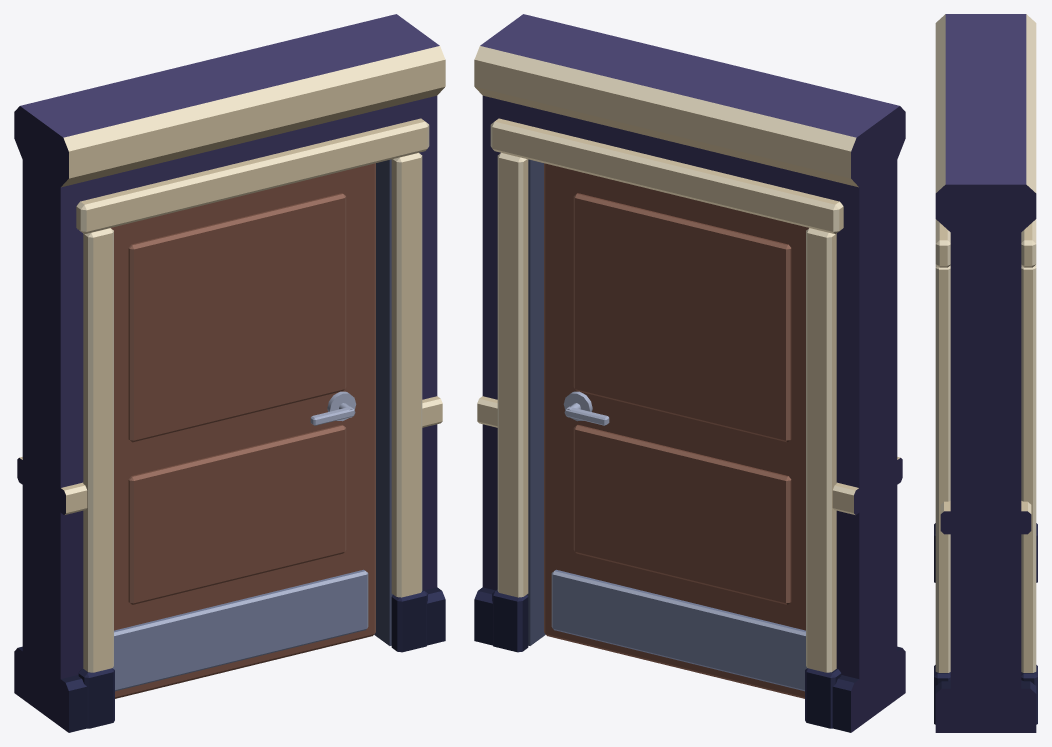
File: Wall_Door_8x12.fbx
3 renders of one model, left to right at view 1: azimuth 30°, elevation 25°; view 2: azimuth 150°, elevation 25°; view 3: azimuth 270°, elevation 25°, orthographic. The views are drawn at different scales.
Parts seen in each view (by area): view 1: Wall_Door_8x12, Wall_Door_8x12_Leaf; view 2: Wall_Door_8x12, Wall_Door_8x12_Leaf; view 3: Wall_Door_8x12.
Part boxes in pixels (x1,y1,x2,y2): Wall_Door_8x12: (14, 14, 445, 732); Wall_Door_8x12_Leaf: (111, 163, 375, 698); Wall_Door_8x12: (474, 14, 905, 732); Wall_Door_8x12_Leaf: (544, 163, 808, 698); Wall_Door_8x12: (934, 14, 1037, 732).
Size of the model in its own units: 8 by 12 by 2.06.
Materials: 1 (1 with a texture image).
